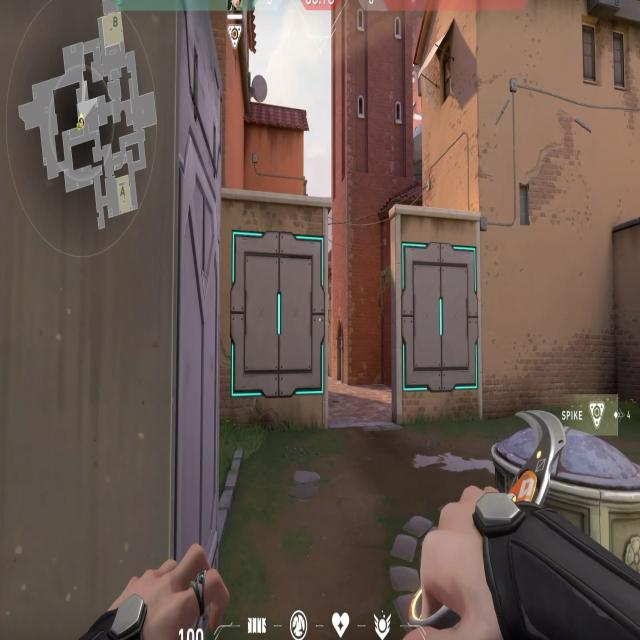Mid_Wall: (232, 225, 328, 402), (400, 239, 480, 402)
